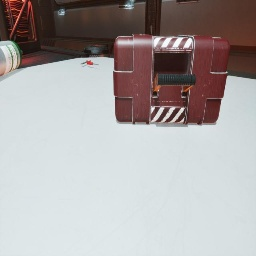0: (0, 40, 23, 76)
FirstAidBox ,: (113, 34, 230, 125)
